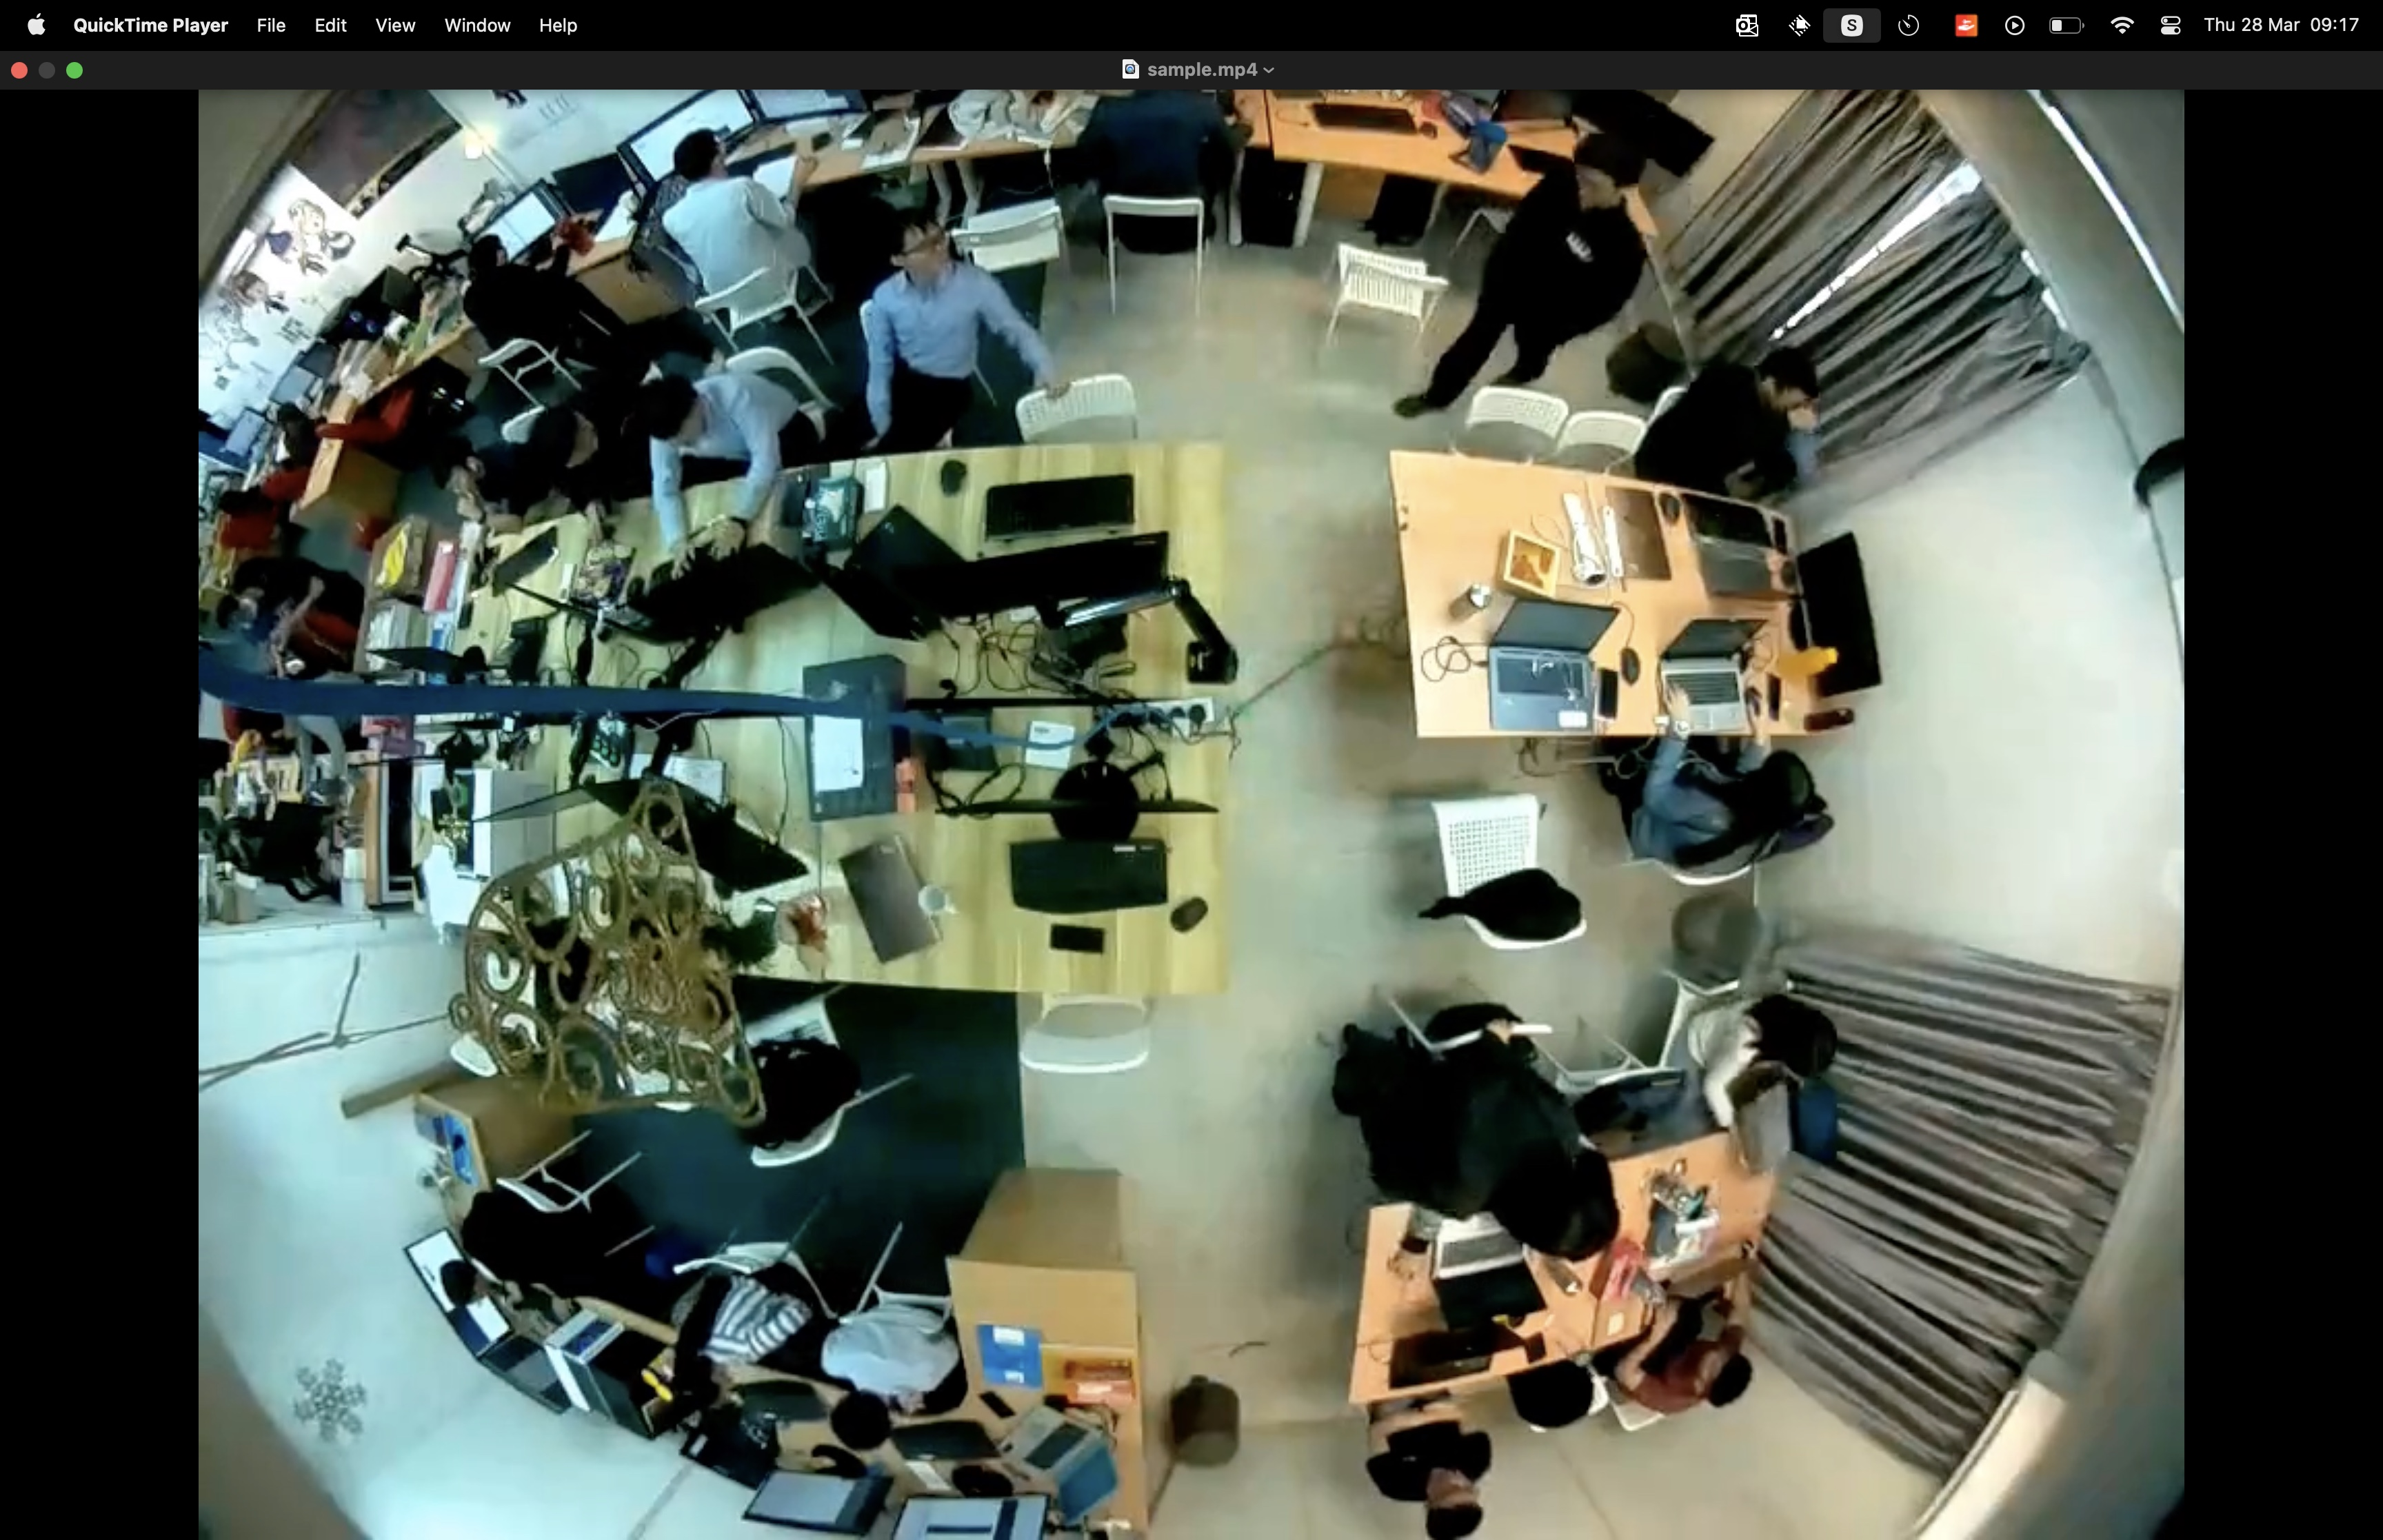Staff: (1396, 139, 1660, 417)
